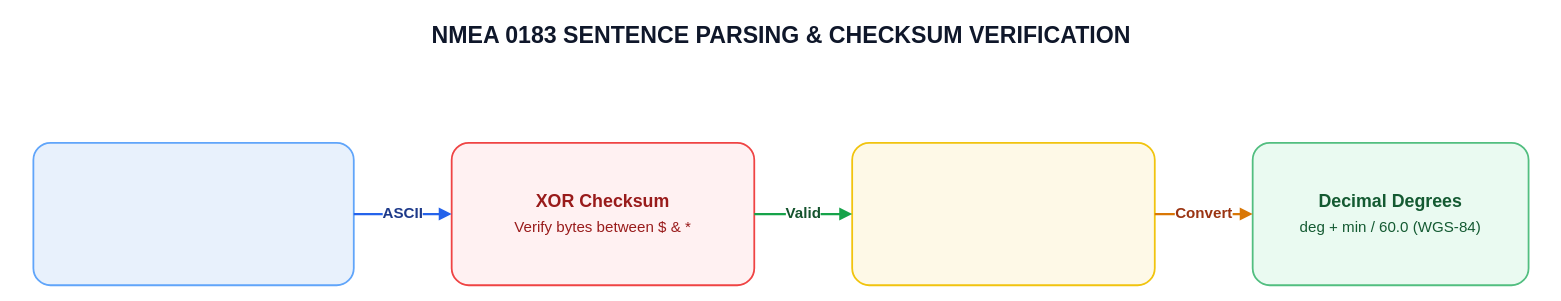
Image size: 1561x301. Some labels were removed from this diagram. The box of each missing label's shape, as (x1, y1, x2, y2) in pixels:
Raw NMEA Sentence $GPRMC,083559,A,...*76: (32, 142, 354, 286)
Stream FSM Parser Zero-Heap Byte Decode: (851, 142, 1155, 286)
